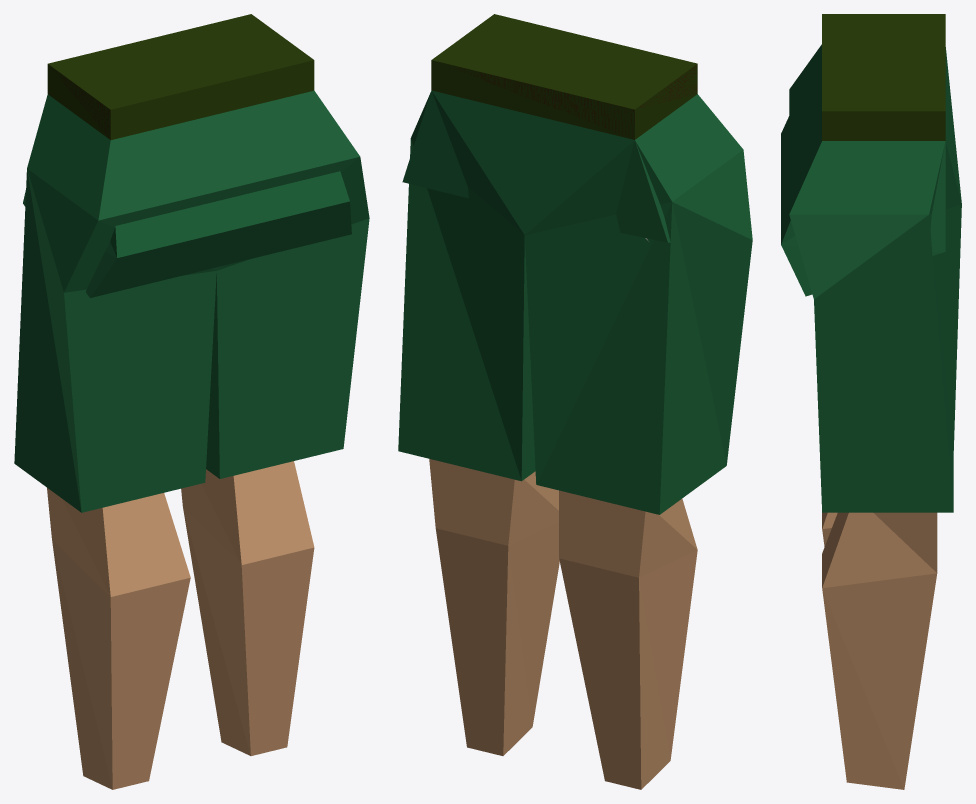
The model's file is player_female_legs_71_0.obj.
3 views of the same model, side by side, from view 1: azimuth 30°, elevation 25°; view 2: azimuth 150°, elevation 25°; view 3: azimuth 270°, elevation 25° (orthographic). The views are drawn at different scales.
Bounding box in the file's own units: 0.3281 × 0.7188 × 0.1719.
